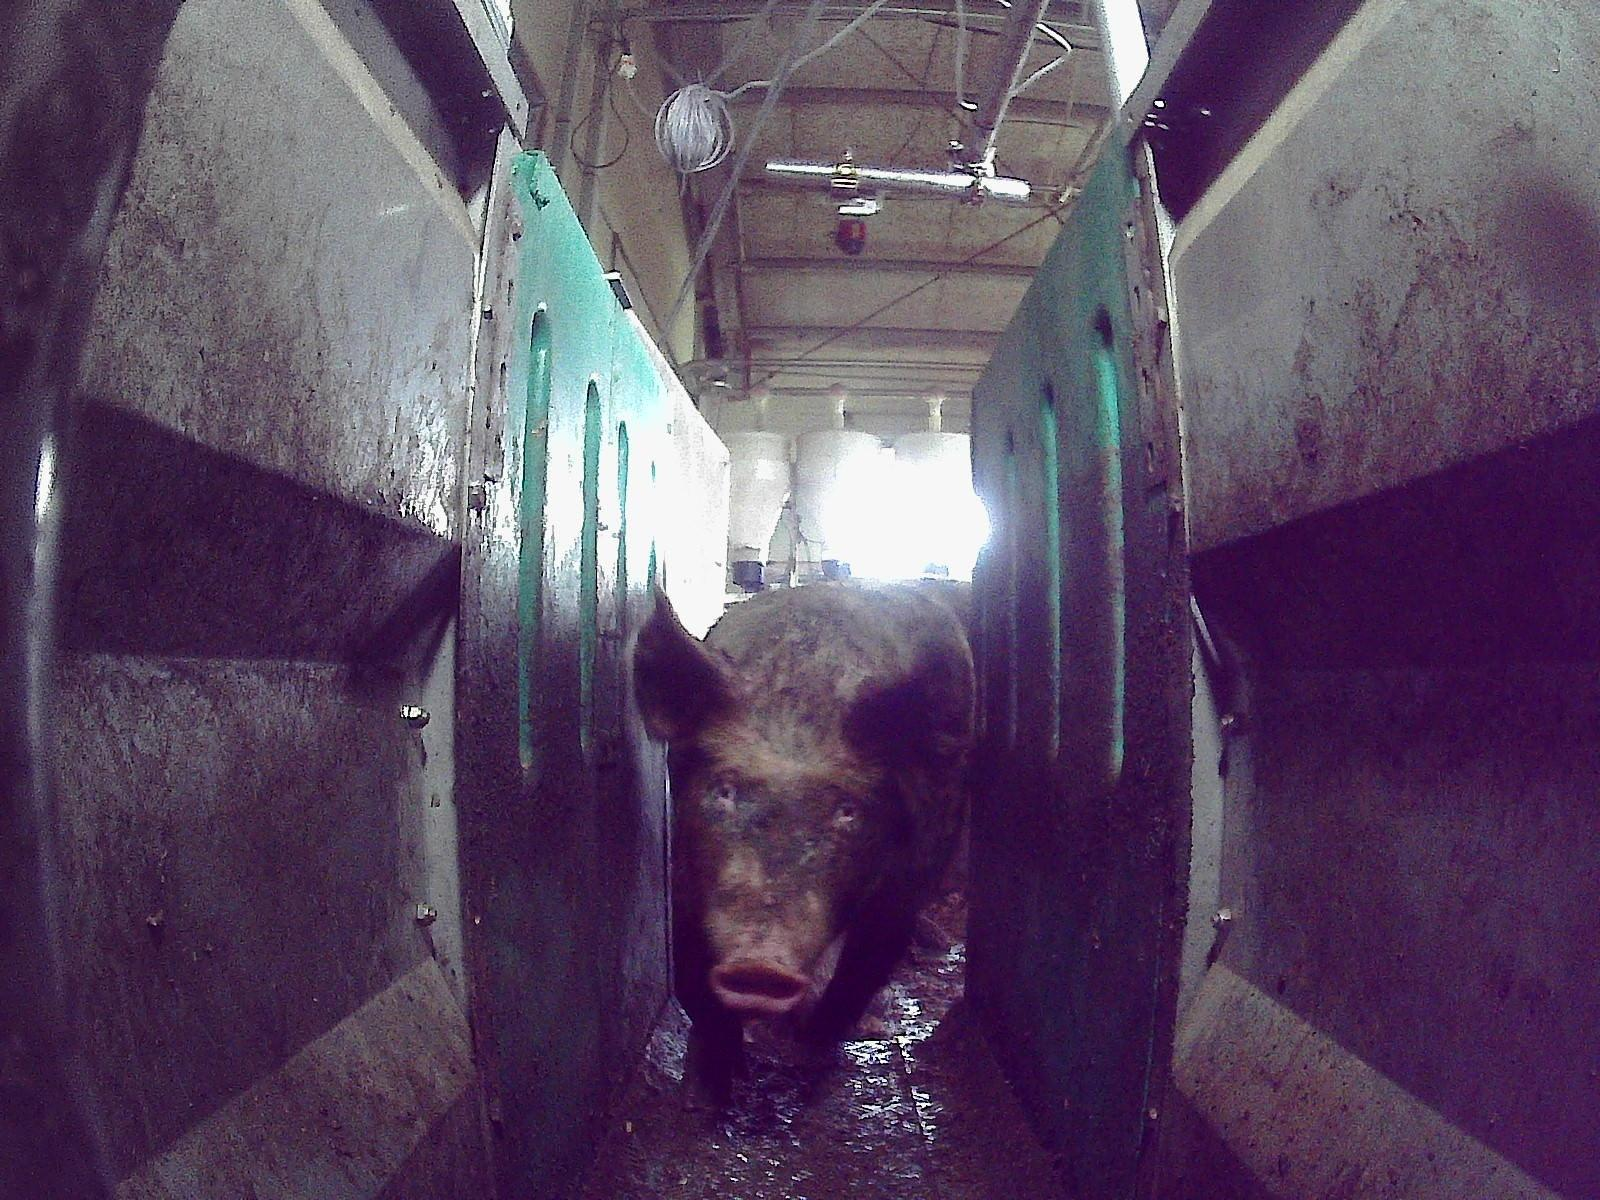Face: (662, 692, 890, 1017)
